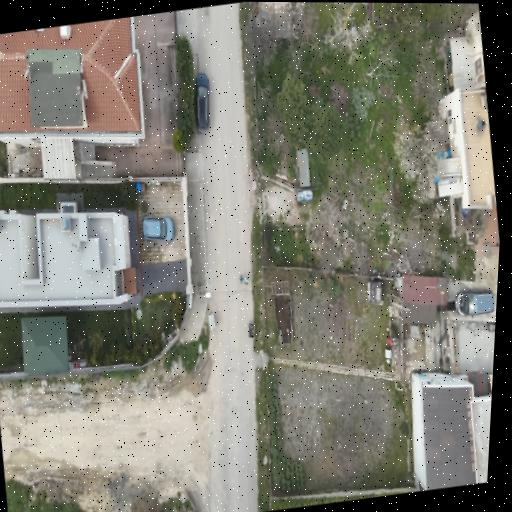car: (455, 289, 494, 315), (196, 72, 210, 131), (142, 215, 174, 240), (487, 322, 495, 331)
person: (240, 274, 244, 282), (246, 276, 249, 283)
